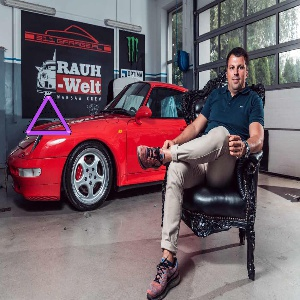triangle: (23, 94, 75, 138)
